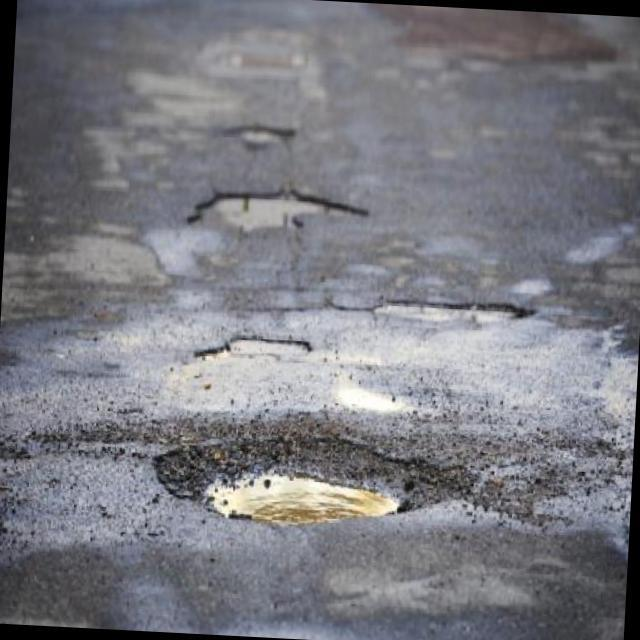pothole: (148, 405, 474, 542), (188, 174, 358, 239), (371, 292, 538, 330), (199, 322, 339, 364), (229, 119, 294, 152)
